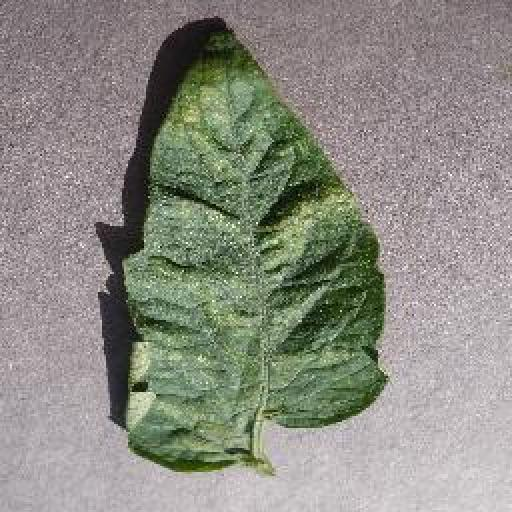disease_tomato: (124, 36, 388, 476)
